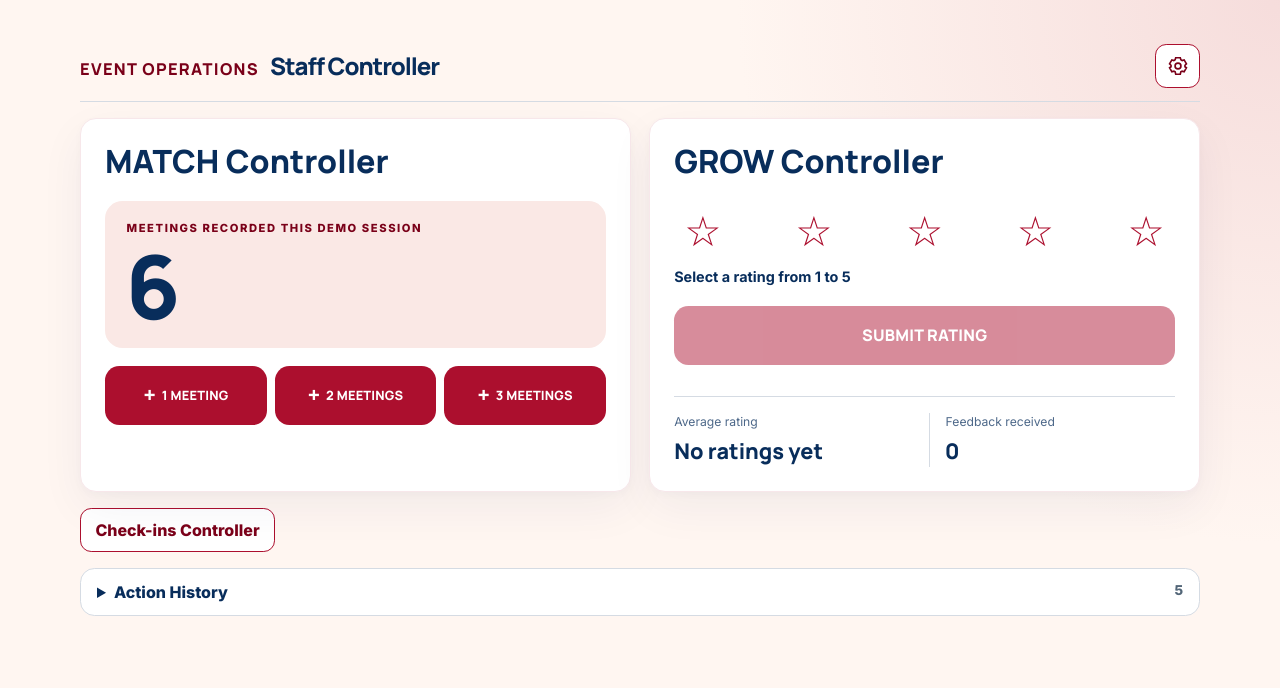
it: StaffController › limits expanded history to the five newest combined actions
Expected: the text named "6 completed meetings" is shown, [127,225,173,345]
Click the heading "Action History 5": (171, 592) [97,580,1183,604]
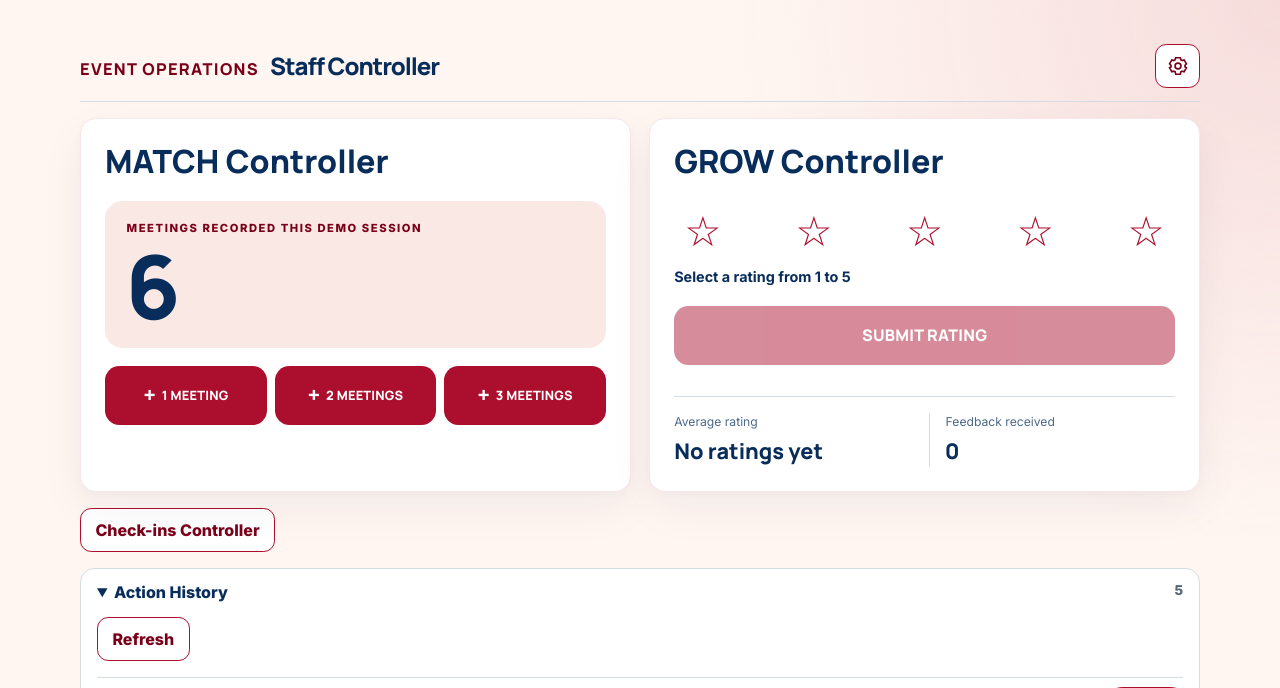
Now the number of buttons "Undo" is 5
